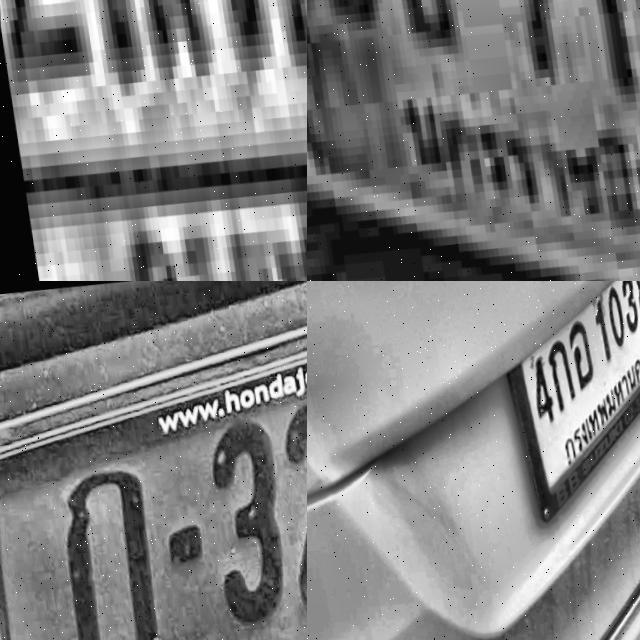license-plate: (0, 281, 307, 640), (307, 0, 640, 281), (0, 0, 307, 281), (484, 281, 640, 526)
